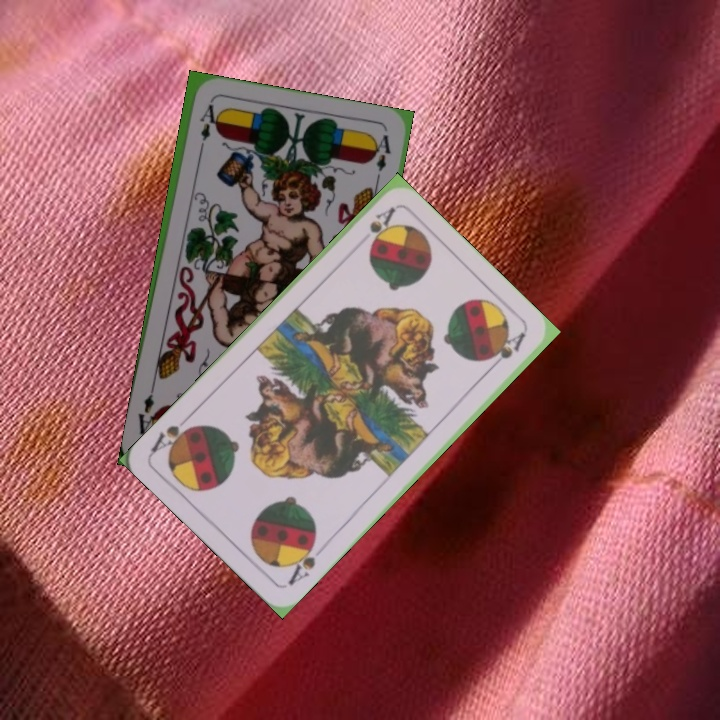EA: (194, 100, 216, 158)
SA: (284, 534, 319, 588), (364, 203, 398, 250)
